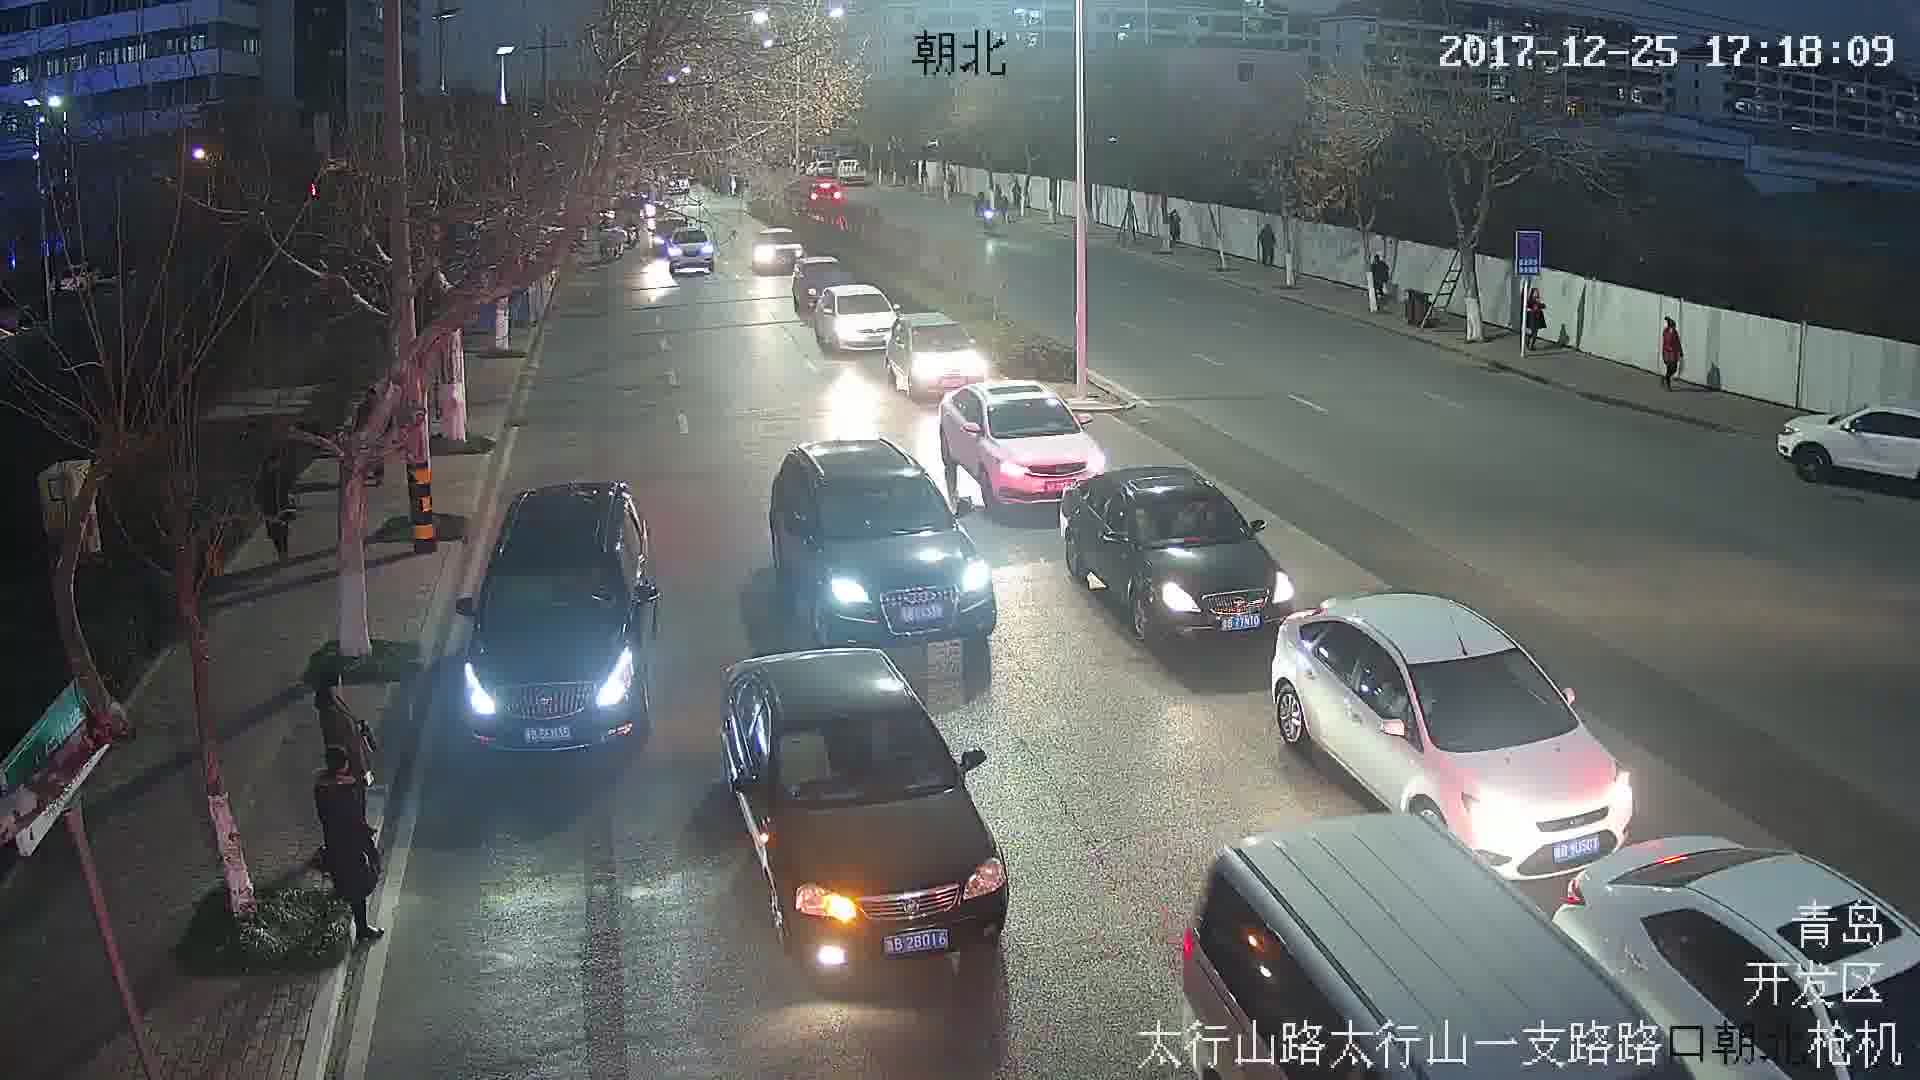car: (712, 655, 1006, 971), (1281, 600, 1613, 863), (463, 485, 660, 750), (780, 441, 996, 649), (1060, 473, 1295, 639), (943, 381, 1105, 505), (895, 317, 989, 389), (813, 289, 900, 356), (671, 232, 716, 280)
person: (323, 752, 392, 939), (316, 677, 378, 784), (256, 455, 299, 560), (1655, 312, 1685, 395), (1527, 288, 1549, 353), (1253, 220, 1277, 269)
